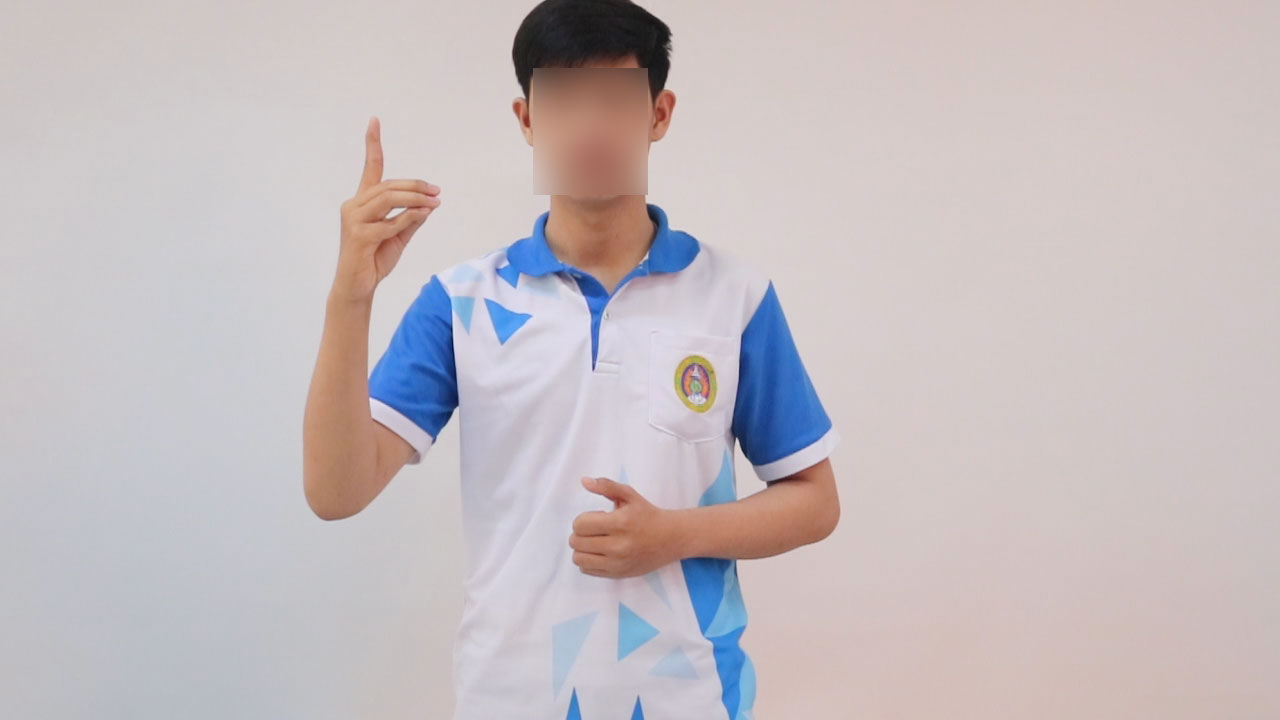dor: (324, 110, 447, 304)
